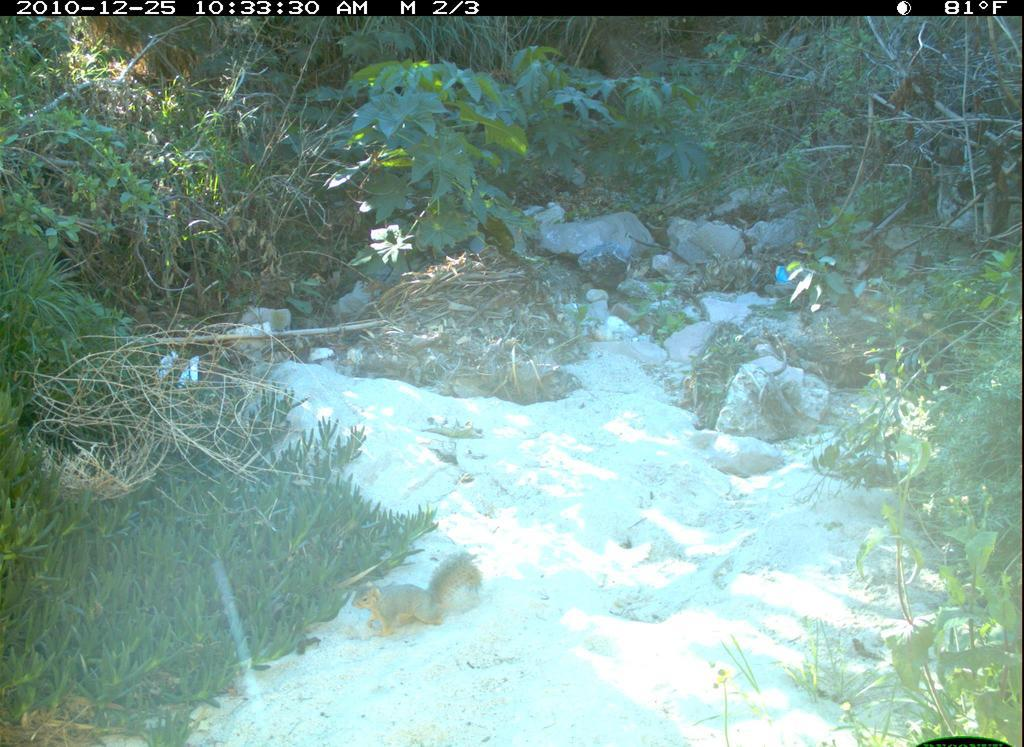squirrel: (349, 548, 487, 639)
